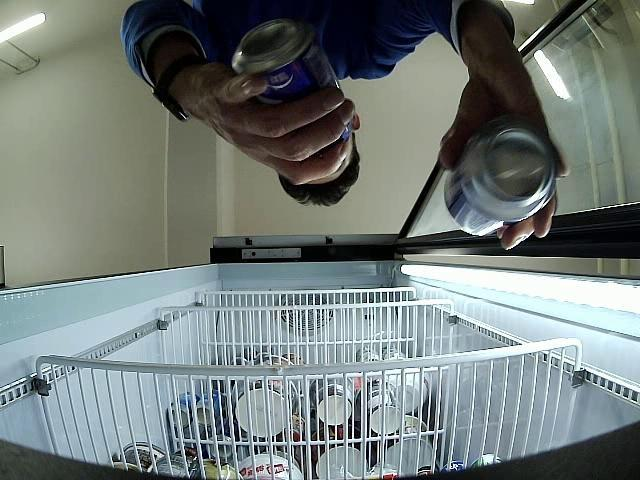14_welchsGrape: (230, 19, 348, 153), (444, 118, 559, 238)
